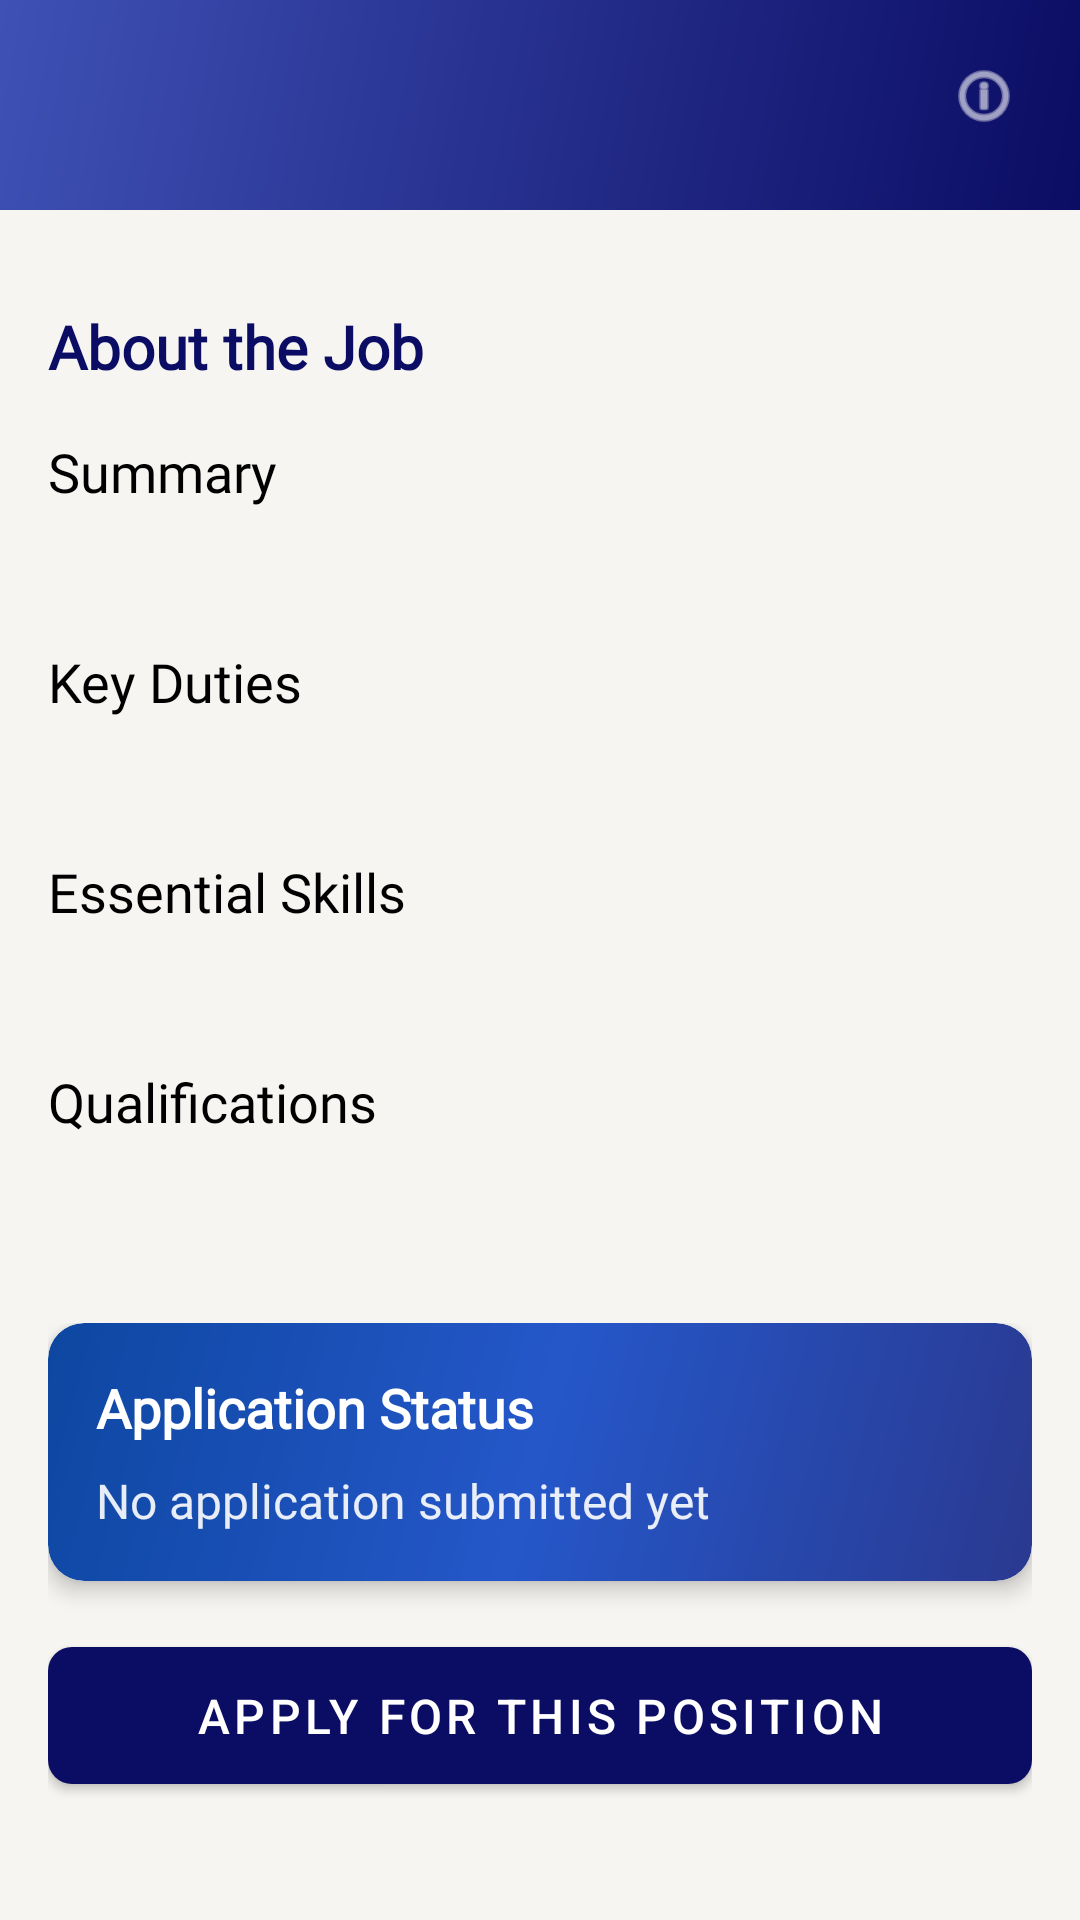

Named icons in this screenshot (1080w x 1920h) and their centers, point (x, y):
Job Information: point (984, 96)
